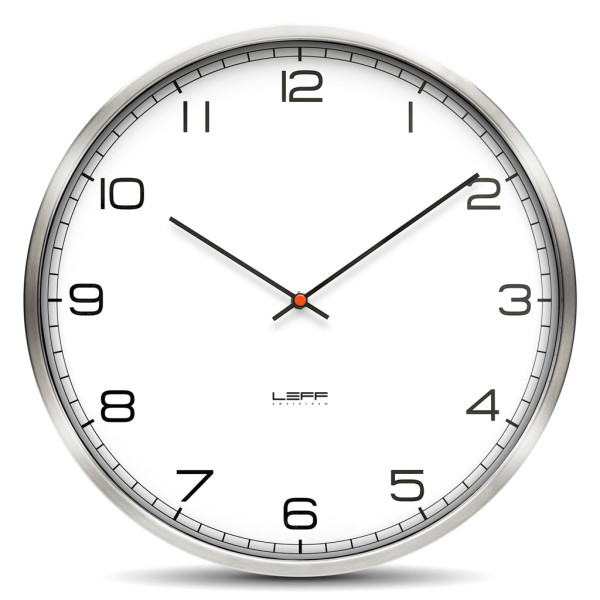clock: (41, 39, 562, 561)
